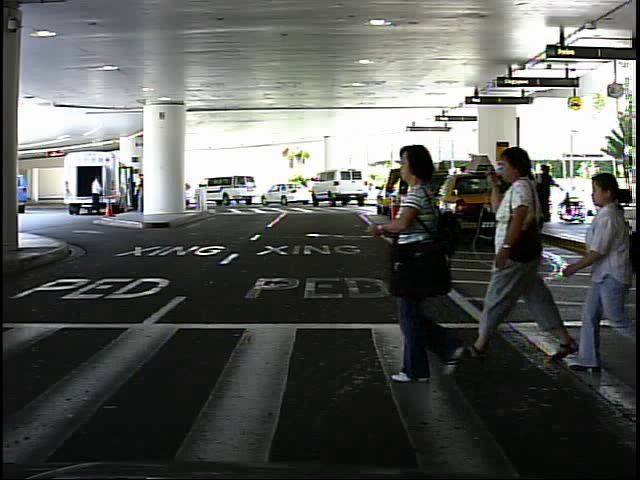person: (383, 132, 479, 389), (479, 133, 580, 373), (87, 170, 105, 220), (595, 172, 606, 217)
